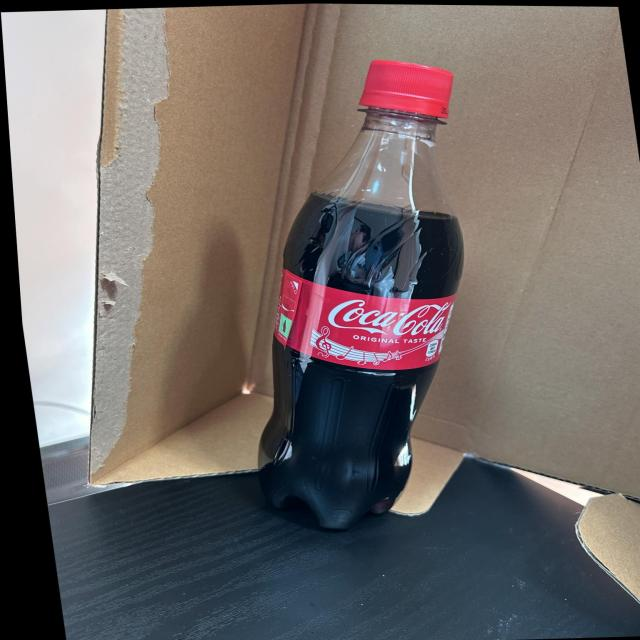high: (258, 60, 463, 530)
